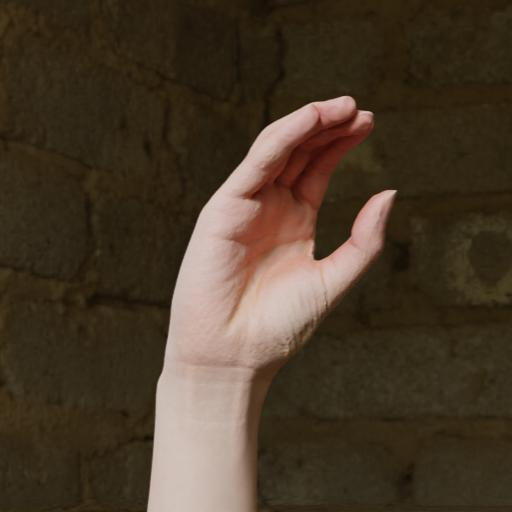C: (153, 86, 404, 408)
